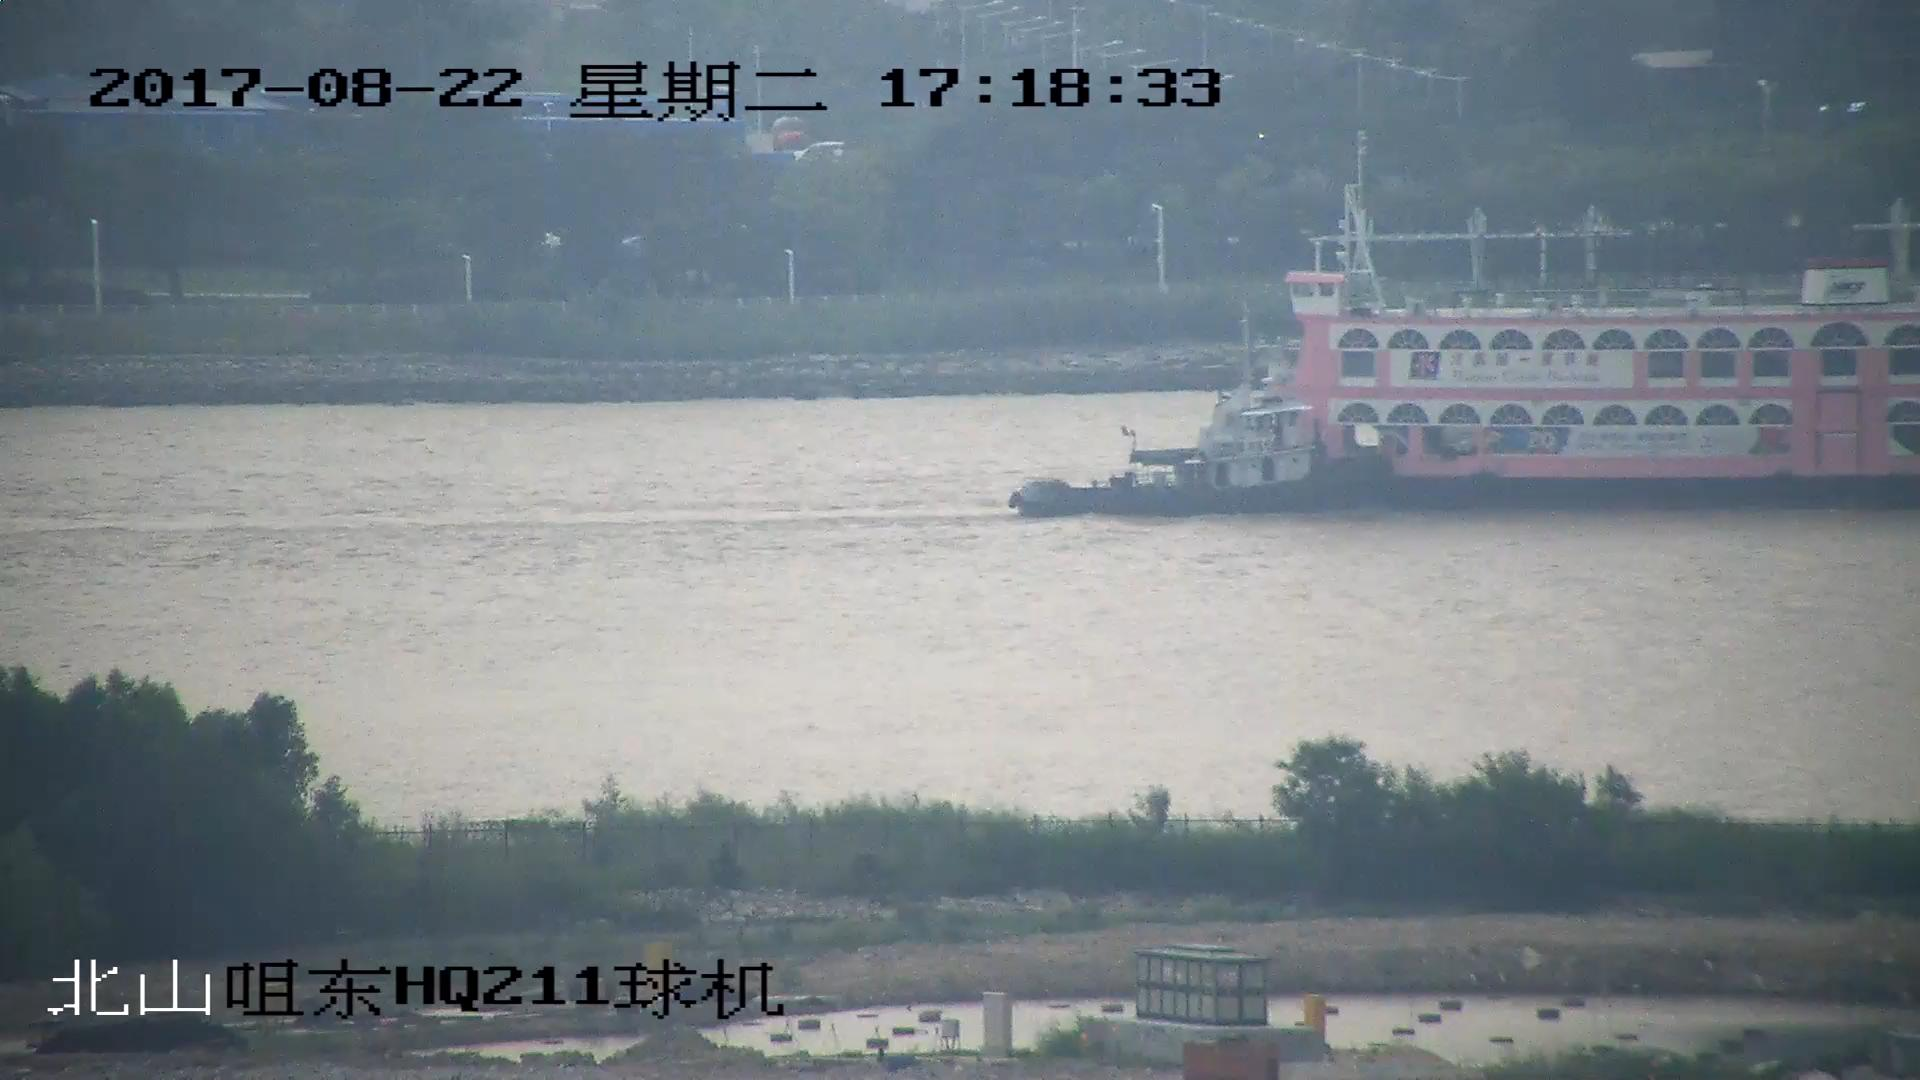passenger ship: (1016, 186, 1920, 513)
